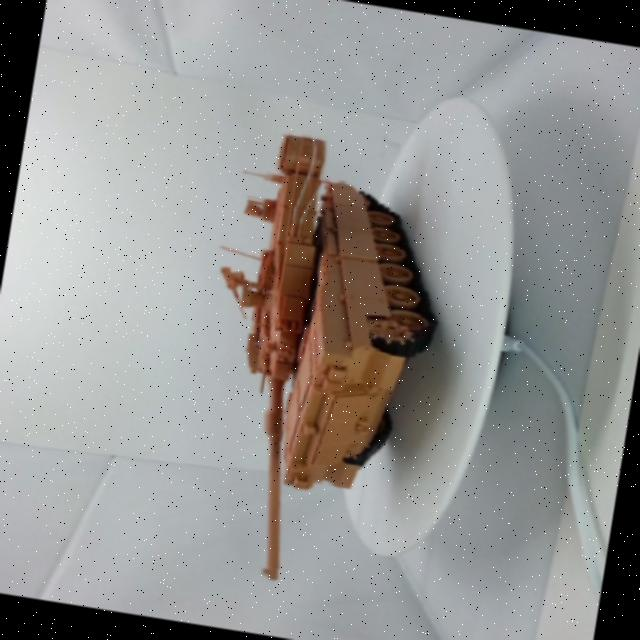korea tank: (155, 106, 474, 615)
